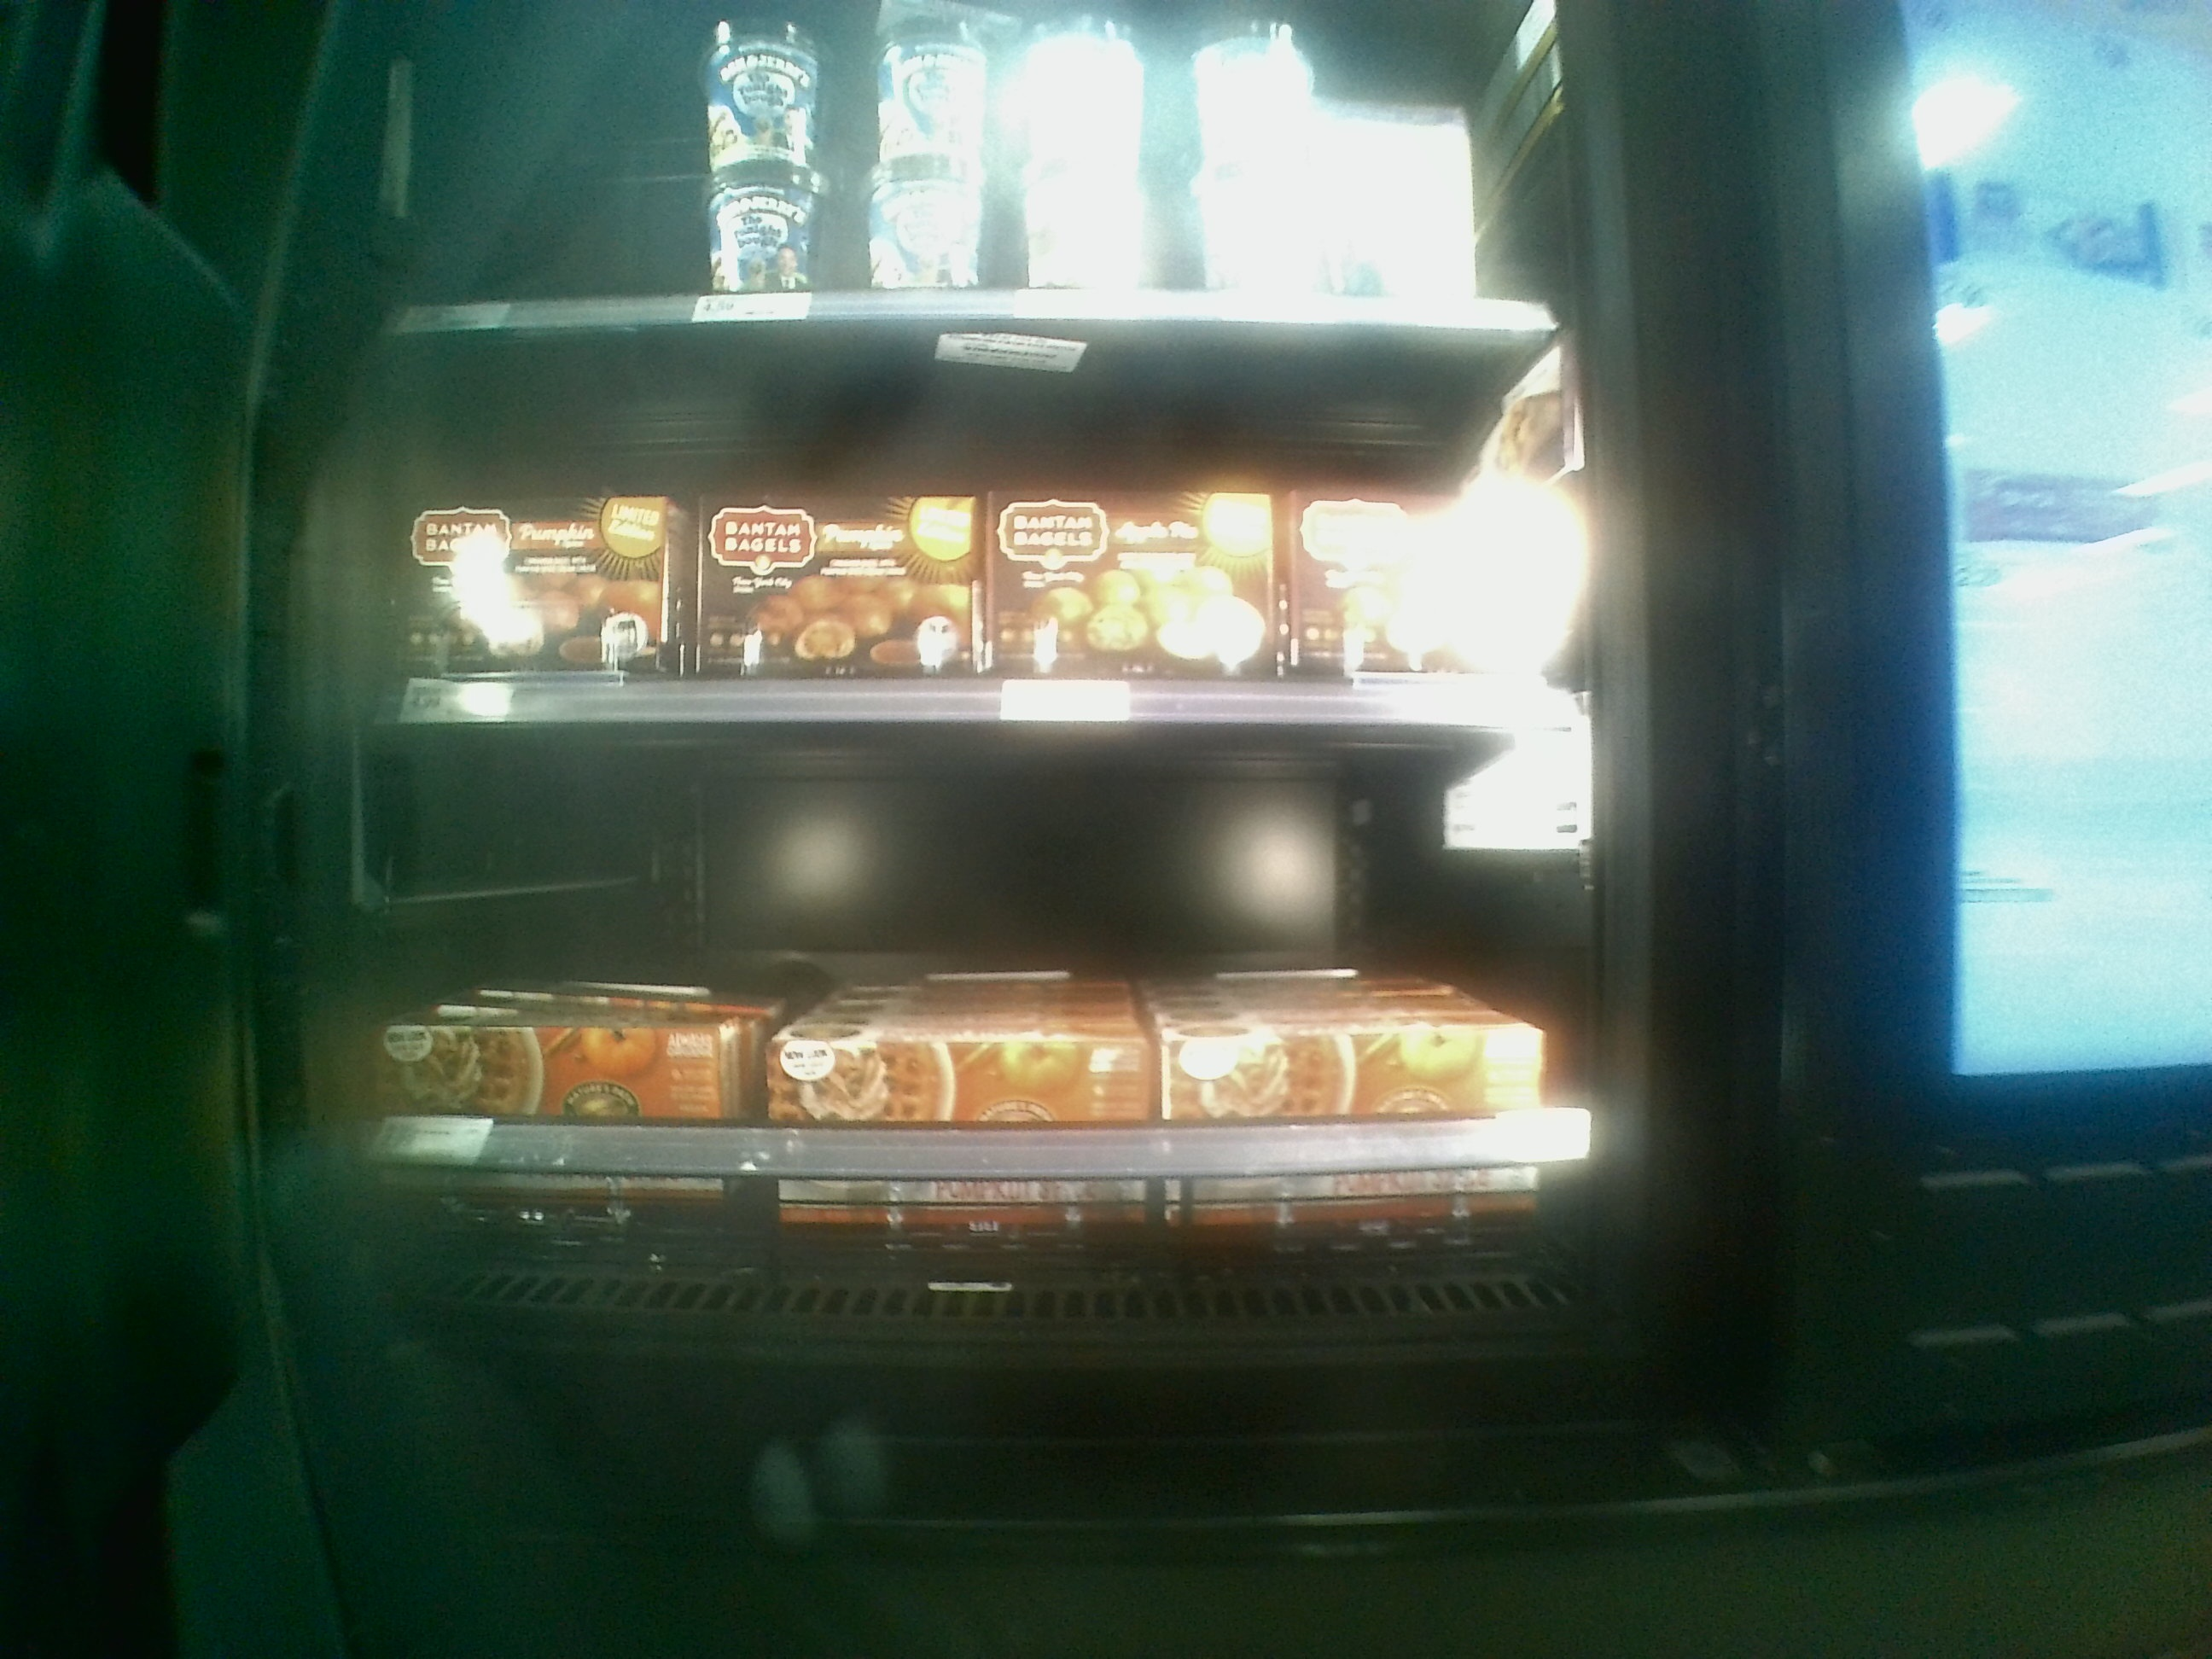shelf: (265, 725, 1646, 1363), (291, 328, 1635, 734)
